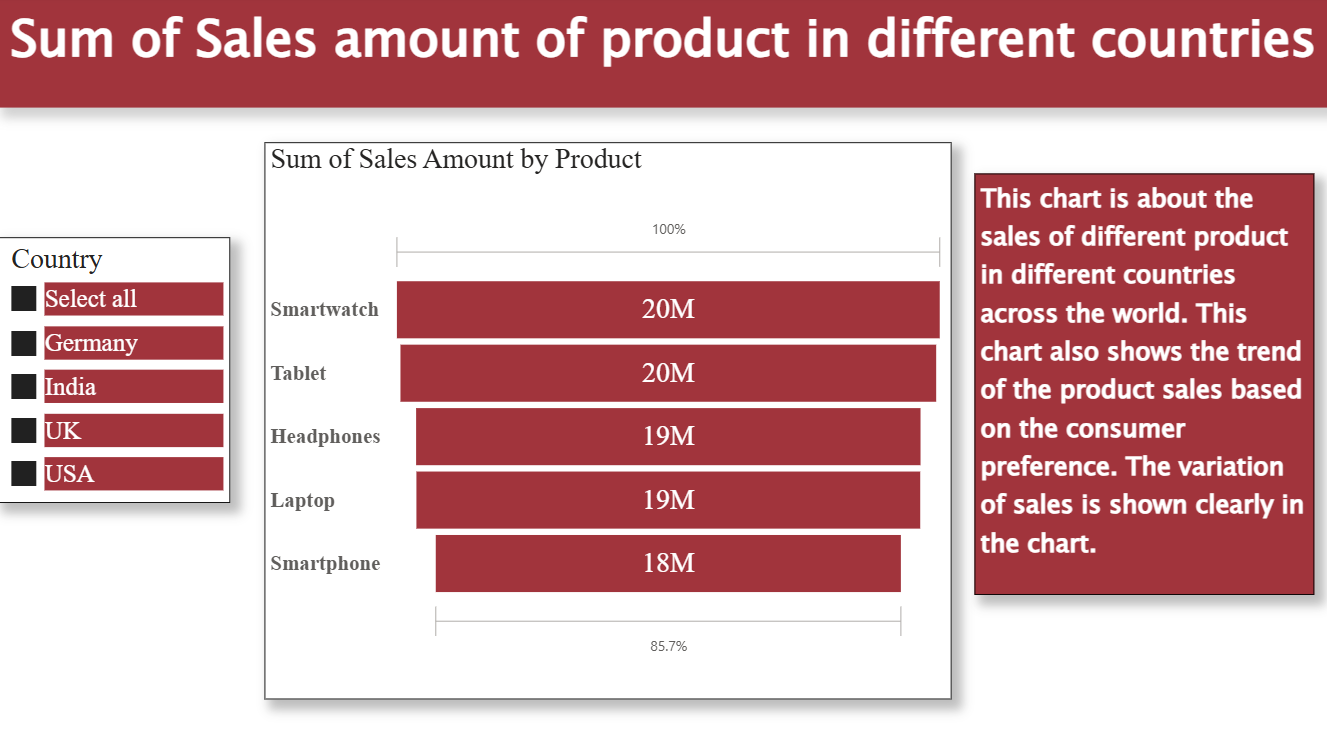

Layout of this report page (visuals, bound fields, positions):
{"tool":"powerbi","page":{"name":"Product and country","canvas":[1280,720],"ordinal":3},"visuals":[{"type":"funnel","fields":{"Category":["Product_Sales_Dataset.Product"],"Y":["Sum(Product_Sales_Dataset.Sales Amount)"]},"box":[256.6,140,660,535.2],"z":0},{"type":"slicer","fields":{"Values":["Product_Sales_Dataset.Country"]},"box":[0,231.9,223.7,255.2],"z":1000},{"type":"textbox","box":[0,0,1280.3,107],"z":2000},{"type":"textbox","box":[938.6,170.2,326.6,404.8],"z":2001}]}

Visuals, with their boxes in screenshot pixels (x1, y1, x2, y2), scaled from the page's 1280x720 canvas onto the 1327x740 screenshot:
funnel - Product_Sales_Dataset.Product x Sum(Product_Sales_Dataset.Sales Amount): locate(266, 144, 950, 694)
slicer - Product_Sales_Dataset.Country: locate(0, 238, 232, 501)
textbox: locate(0, 0, 1326, 110)
textbox: locate(973, 175, 1312, 591)
